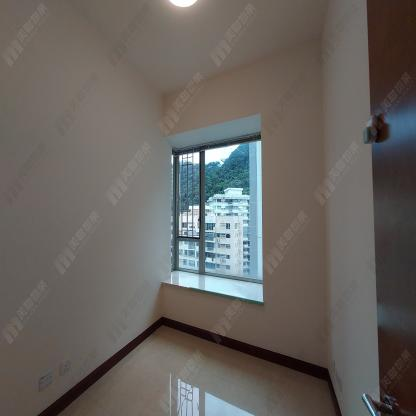Windowsill: (162, 114, 263, 302)
